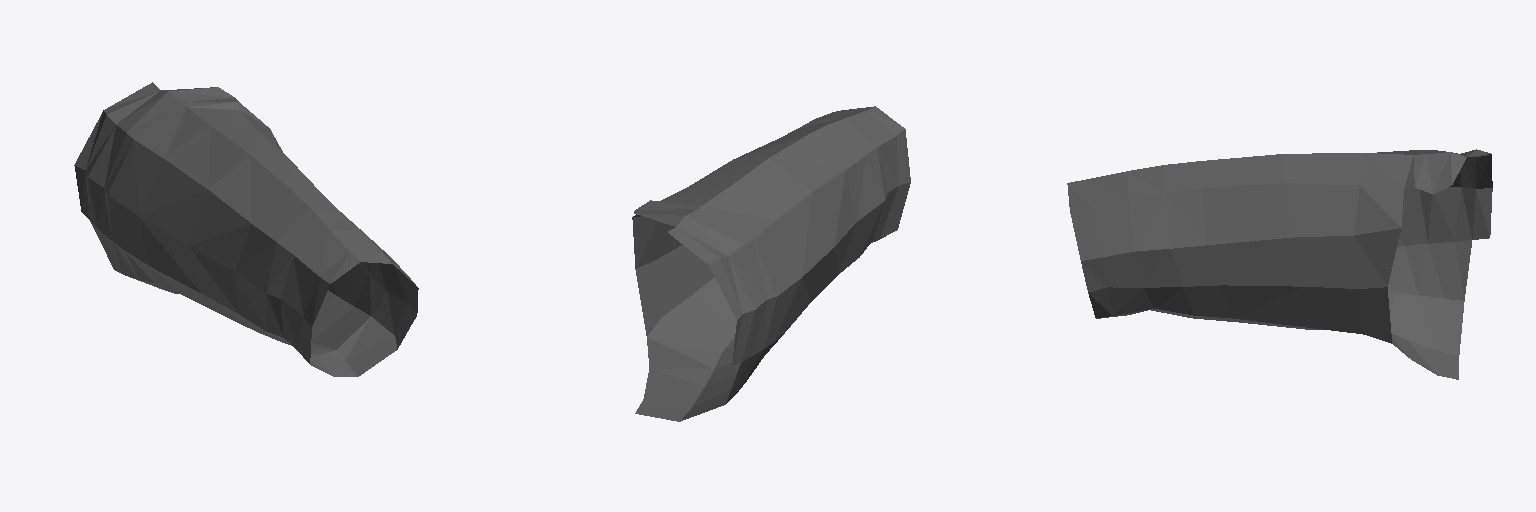
The model's file is r_upperleg.obj.
3 renders of one model, left to right at view 1: azimuth 30°, elevation 25°; view 2: azimuth 150°, elevation 25°; view 3: azimuth 270°, elevation 25°, orthographic.
Visible parts, largest first — view 1: zoey_color_bmp_013_zoey_color_bmp.013; view 2: zoey_color_bmp_013_zoey_color_bmp.013; view 3: zoey_color_bmp_013_zoey_color_bmp.013.
Boxes of the visible parts, x1=… form: zoey_color_bmp_013_zoey_color_bmp.013: x1=74, y1=82, x2=418, y2=376; zoey_color_bmp_013_zoey_color_bmp.013: x1=632, y1=106, x2=910, y2=421; zoey_color_bmp_013_zoey_color_bmp.013: x1=1067, y1=149, x2=1492, y2=379.
Size of the model in its own units: 6.51 by 8.12 by 15.22.